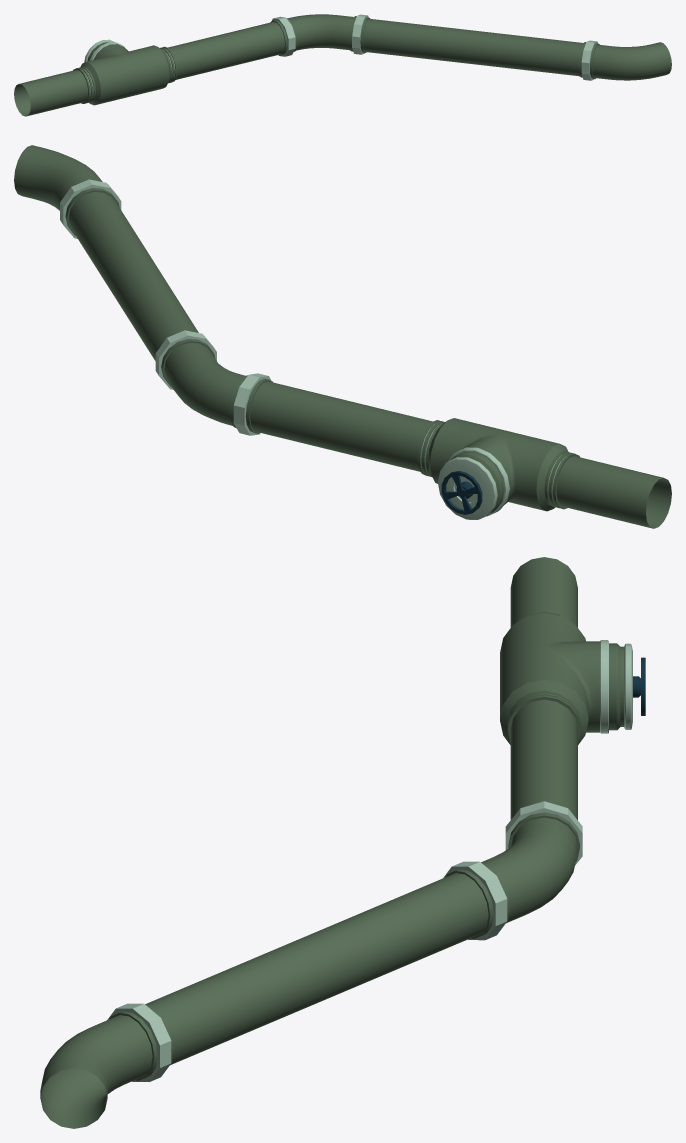
File: PipeComplexLarge_A1_14.fbx
3 renders of one model, top to bottom at view 1: azimuth 30°, elevation 25°; view 2: azimuth 150°, elevation 25°; view 3: azimuth 270°, elevation 25°, orthographic. The views are drawn at different scales.
Parts seen in each view (by area): view 1: PipeComplexLarge_A1_14.001; view 2: PipeComplexLarge_A1_14.001; view 3: PipeComplexLarge_A1_14.001.
Boxes of the visible parts, x1,y1,x2,y2 form: PipeComplexLarge_A1_14.001: (14,14,671,116); PipeComplexLarge_A1_14.001: (14,145,671,528); PipeComplexLarge_A1_14.001: (40,557,645,1128).
Size of the model in its own units: 3.6 by 0.2785 by 1.8.
